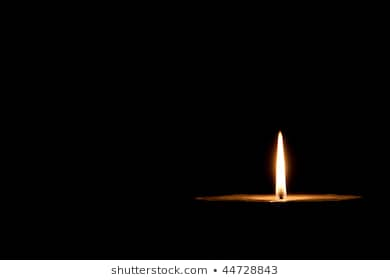Fire: (272, 129, 292, 197)
